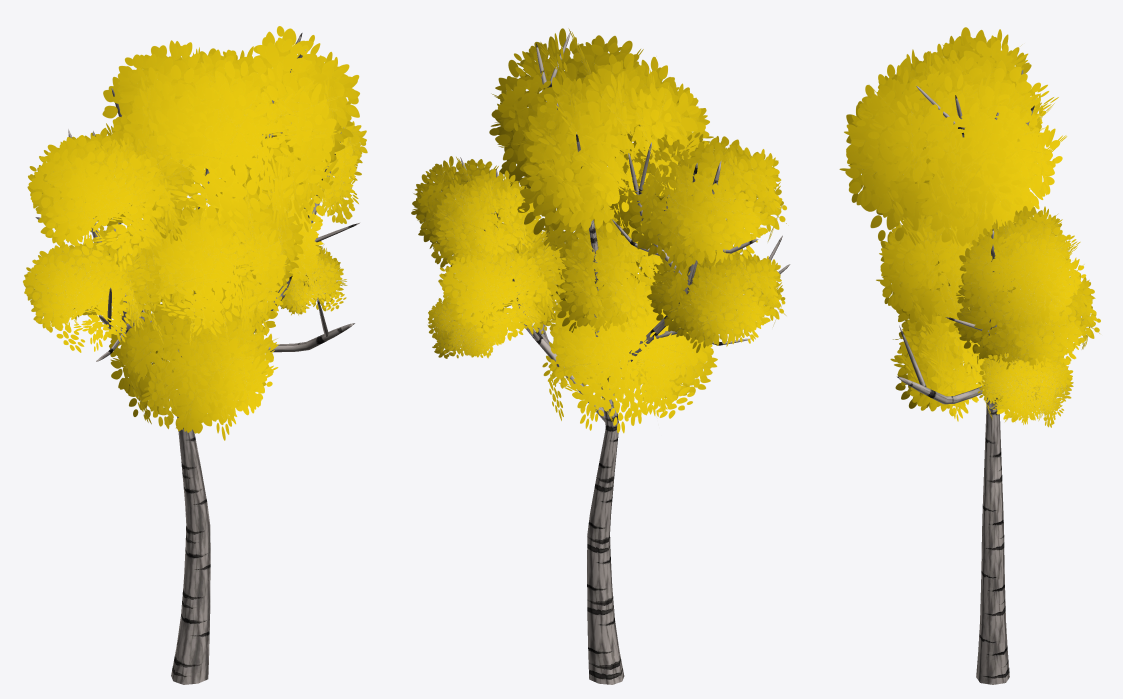
Rendered from BirchTree_3.glb.
3 renders of one model, left to right at view 1: azimuth 30°, elevation 25°; view 2: azimuth 150°, elevation 25°; view 3: azimuth 270°, elevation 25°, orthographic. The views are drawn at different scales.
Parts seen in each view (by area): view 1: BirchTree_3; view 2: BirchTree_3; view 3: BirchTree_3.
Boxes of the visible parts, box(x1,y1,x2,y2) form: BirchTree_3: box(23, 26, 367, 684); BirchTree_3: box(411, 28, 790, 684); BirchTree_3: box(839, 27, 1100, 684).
Bounding box in the file's own units: 3.43 × 5.75 × 2.27.
2 materials, 2 textured.
